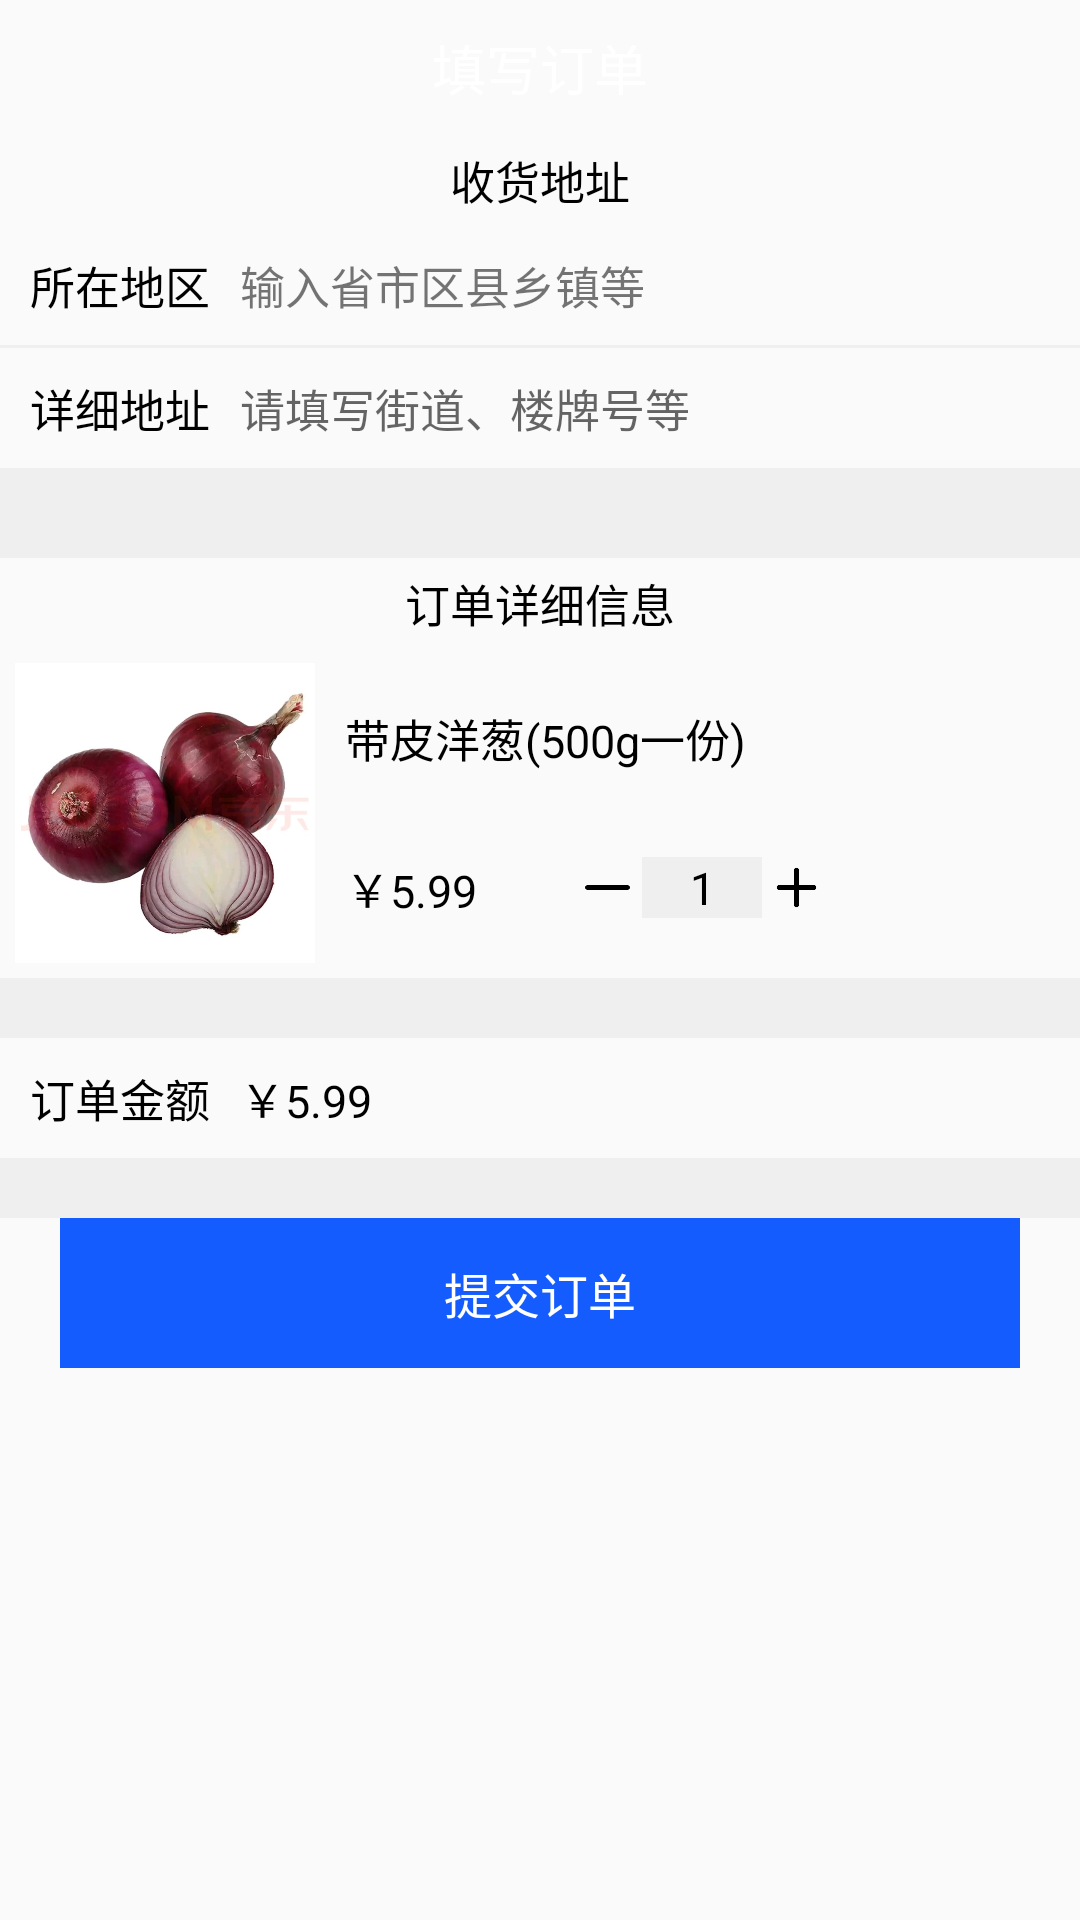

Where icons sit on this 1080px×1920px app screen, as [x1,y1,x2,y2]:
onion: [22,693,307,936]
plus: [777,868,816,907]
